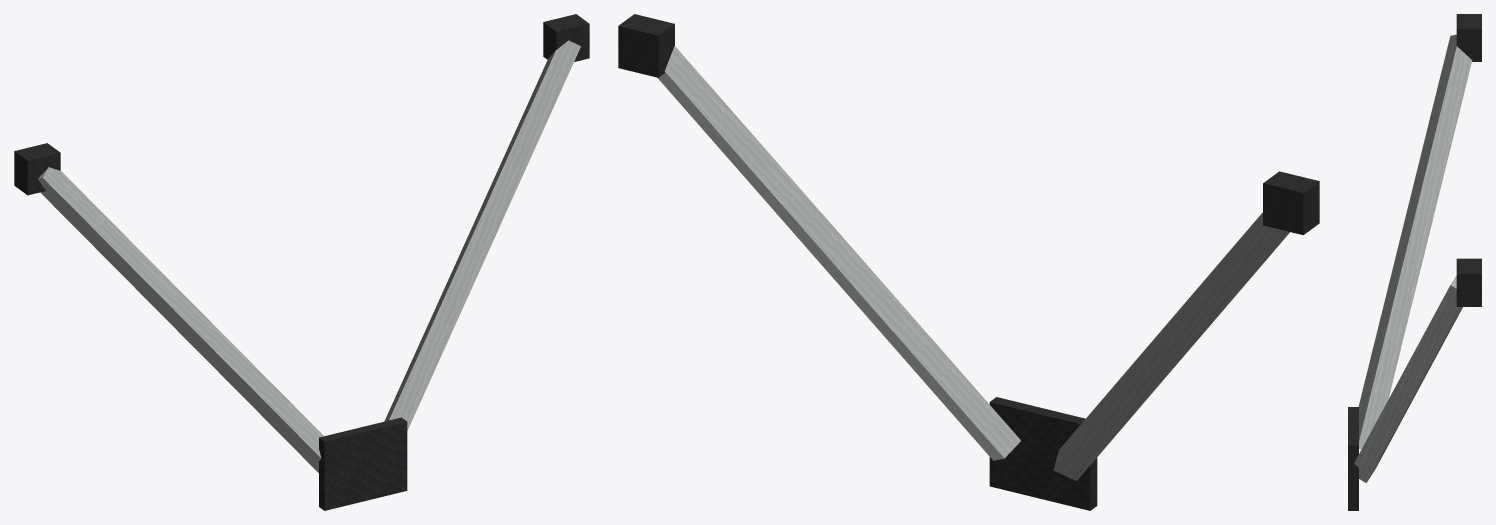
Rendered from brace_lr.obj.
The picture shows the model from 3 angles, left to right: view 1: azimuth 30°, elevation 25°; view 2: azimuth 150°, elevation 25°; view 3: azimuth 270°, elevation 25°; orthographic projection. The views are drawn at different scales.
Visible parts, largest first — view 1: crossarm_brace_metal_lr; view 2: crossarm_brace_metal_lr; view 3: crossarm_brace_metal_lr.
Part boxes in pixels (bbox=[...]): crossarm_brace_metal_lr: bbox=[14, 14, 589, 510]; crossarm_brace_metal_lr: bbox=[618, 14, 1319, 510]; crossarm_brace_metal_lr: bbox=[1348, 14, 1481, 510].
Bounding box in the file's own units: 2.12 × 1.32 × 0.4625.
